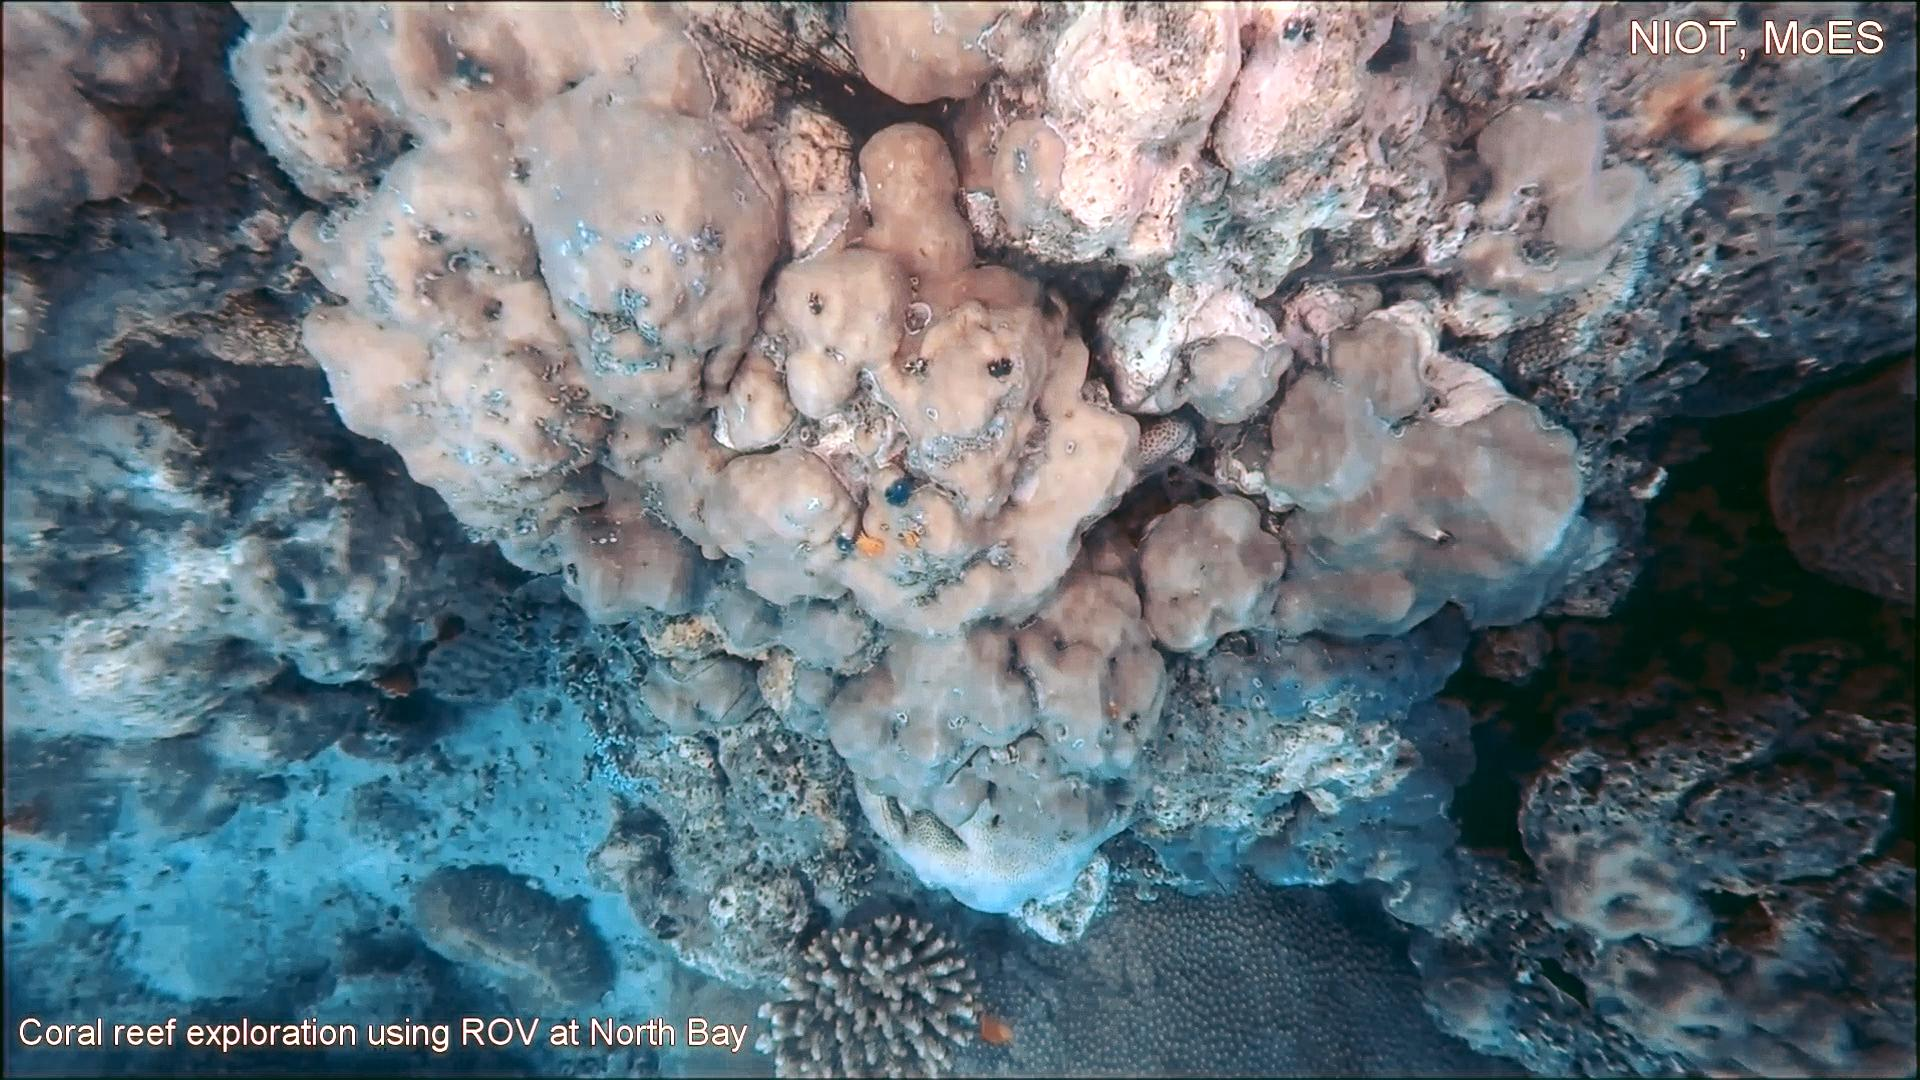Meandrina meandrites: (1756, 352, 1920, 617)
